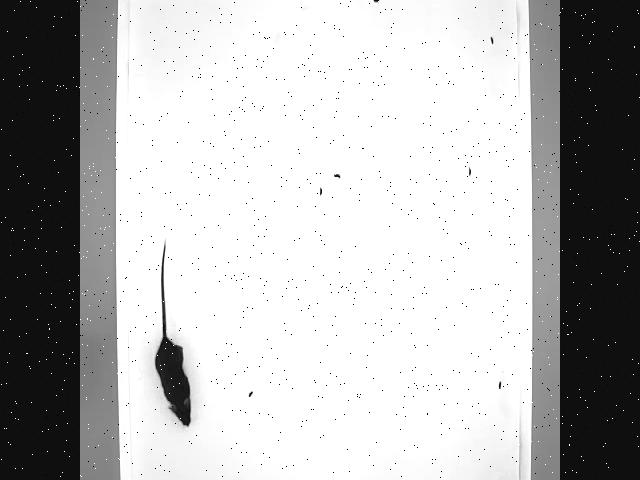Tikus: (153, 237, 193, 429)
